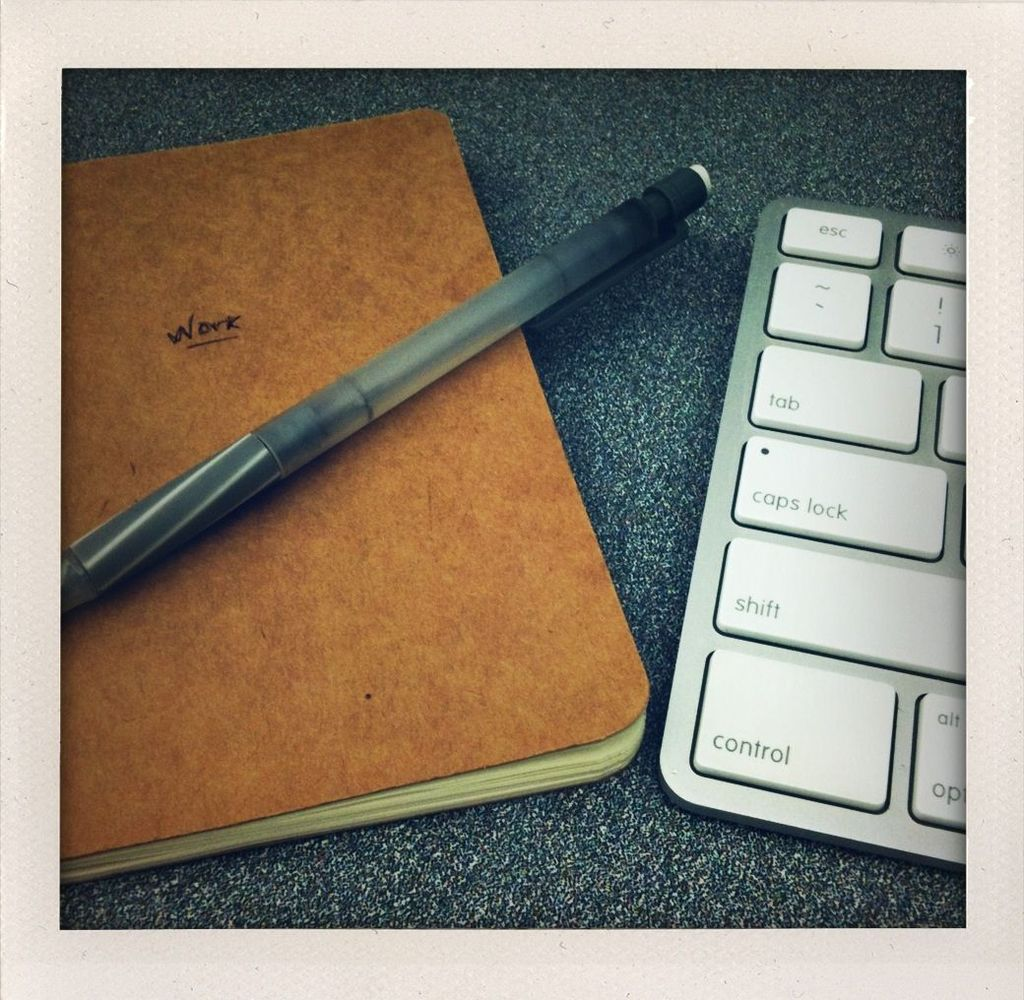Pen: (70, 164, 706, 576)
